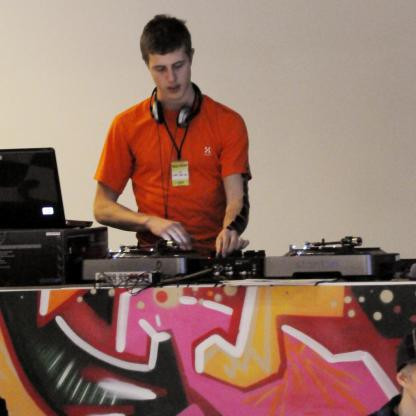board: (0, 147, 93, 230)
